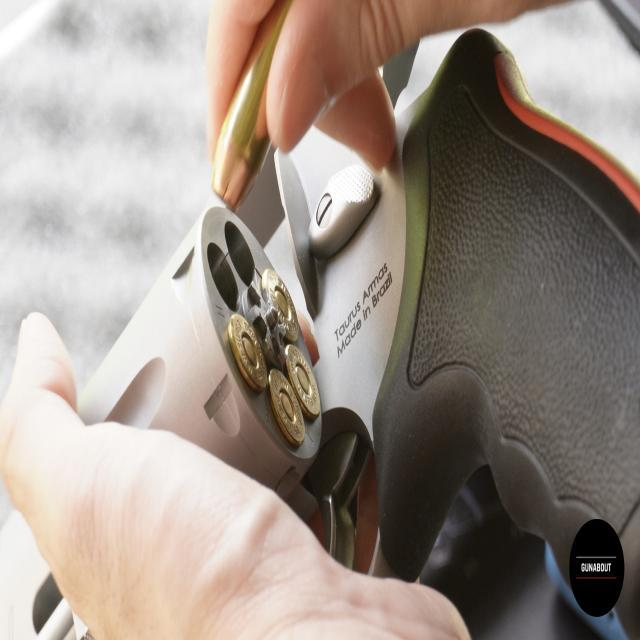revolver: (29, 18, 640, 640)
